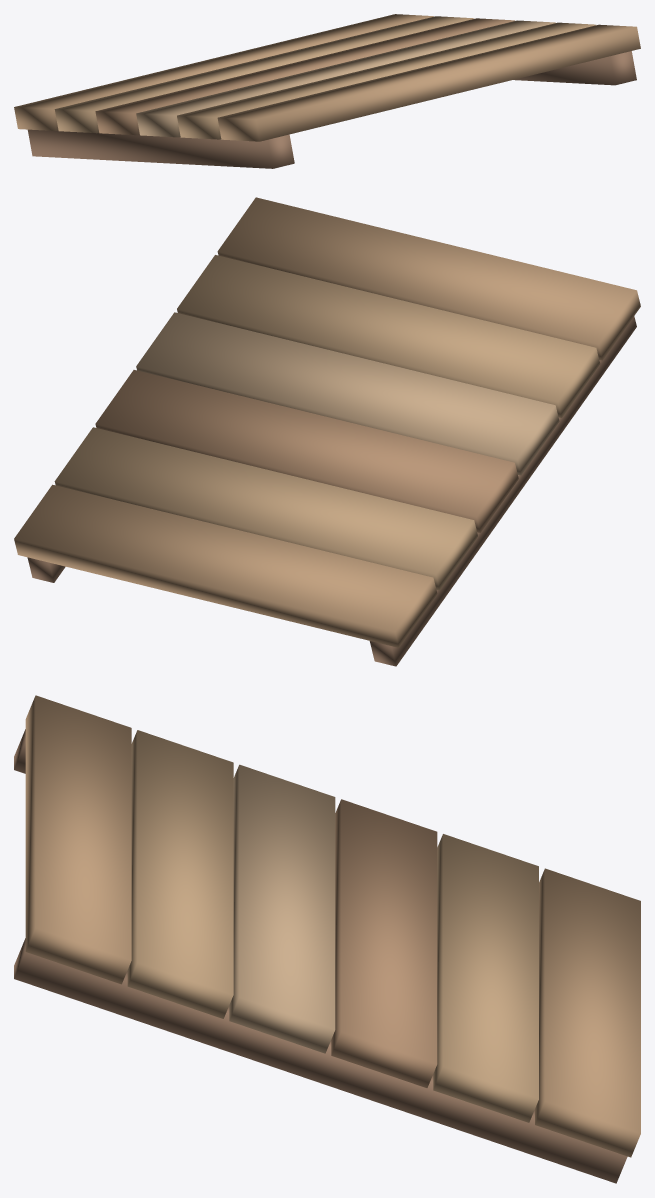
The picture shows the model from 3 angles, top to bottom: view 1: azimuth 30°, elevation 25°; view 2: azimuth 150°, elevation 25°; view 3: azimuth 270°, elevation 25°; orthographic projection. The views are drawn at different scales.
Parts seen in each view (by area): view 1: world; view 2: world; view 3: world.
Boxes of the visible parts, box(x1,y1,x2,y2) form: world: box(14, 14, 640, 168); world: box(14, 197, 640, 666); world: box(14, 695, 640, 1183).
Size of the model in its own units: 1.76 by 0.9203 by 2.
